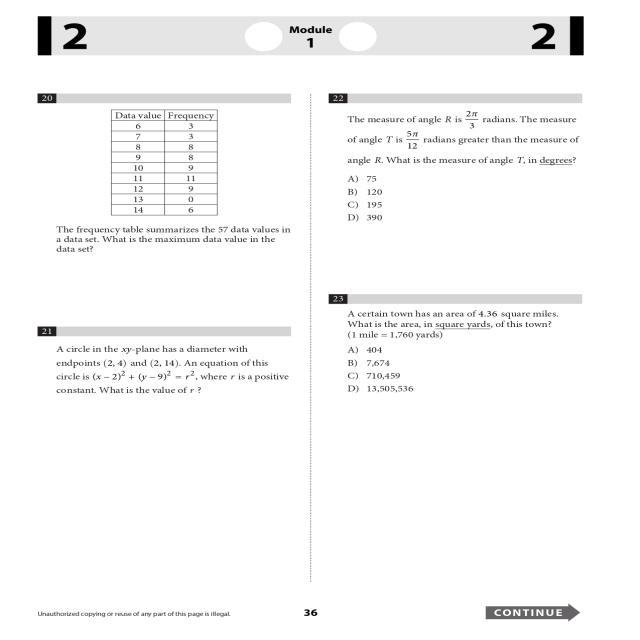Answer_Block: (322, 165, 594, 292), (322, 346, 594, 398)
Question_Answer_Block: (322, 294, 594, 582), (30, 324, 302, 582), (30, 90, 302, 322), (322, 89, 594, 292)
Question_Block: (30, 90, 302, 266), (30, 324, 302, 416), (322, 90, 594, 163), (322, 293, 594, 345)
Question_Paper_Area: (30, 89, 302, 582), (322, 89, 594, 582)
